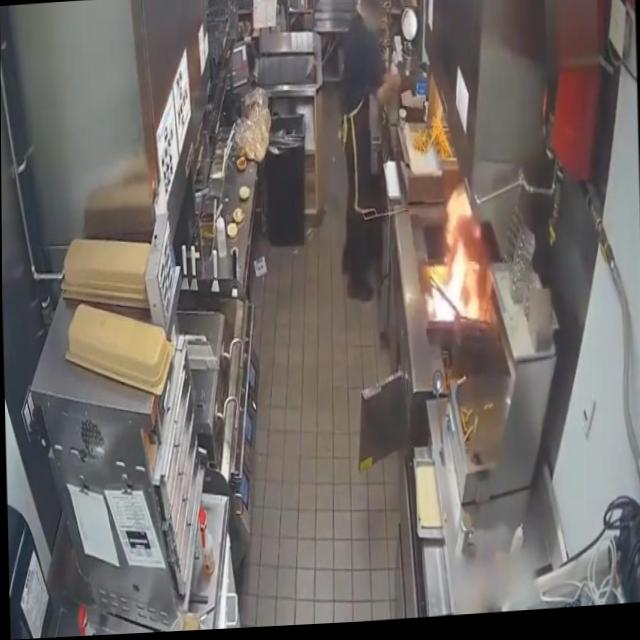fire: (426, 185, 492, 342)
